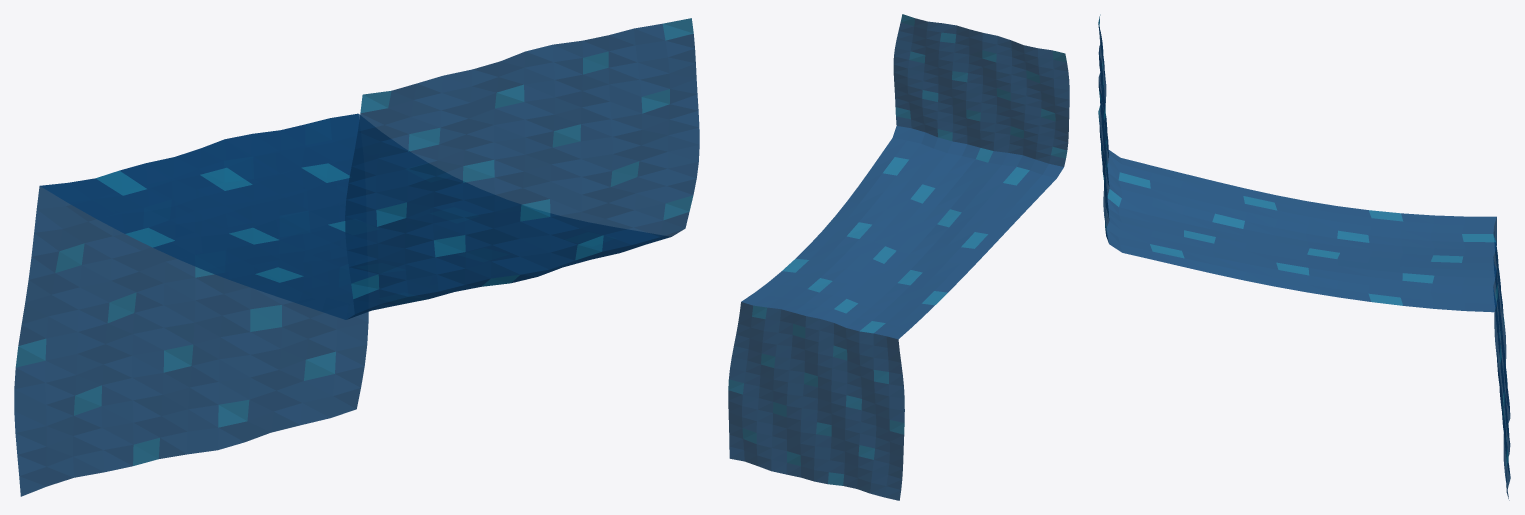
File: CascadeWater.obj
3 views of the same model, side by side, from view 1: azimuth 30°, elevation 25°; view 2: azimuth 150°, elevation 25°; view 3: azimuth 270°, elevation 25° (orthographic). The views are drawn at different scales.
Parts seen in each view (by area): view 1: CascadeWater; view 2: CascadeWater; view 3: CascadeWater.
Boxes of the visible parts, left/top/right/bottom form: CascadeWater: left=14, top=18, right=699, bottom=496; CascadeWater: left=728, top=14, right=1069, bottom=500; CascadeWater: left=1098, top=14, right=1510, bottom=500.
Size of the model in its own units: 170 by 300 by 285.
